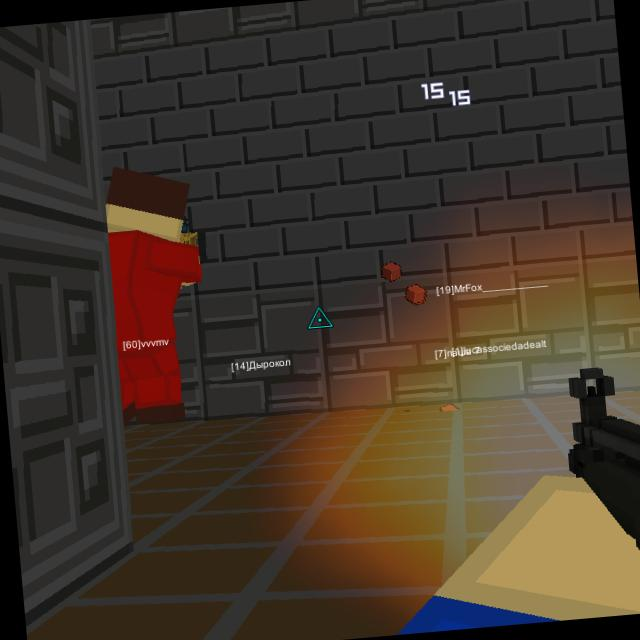enemy: (96, 160, 217, 435)
